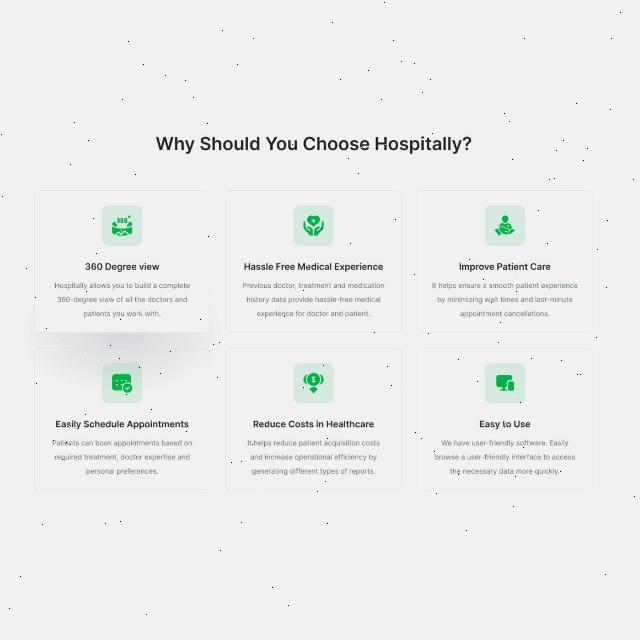QLabel: (153, 134, 473, 154), (431, 278, 577, 318), (240, 280, 386, 318), (246, 437, 382, 477), (52, 280, 195, 318), (434, 438, 576, 476), (51, 436, 192, 474), (243, 262, 385, 272), (54, 419, 188, 429), (252, 419, 376, 428), (457, 261, 551, 271), (84, 260, 160, 272), (478, 418, 532, 428)
VCard: (416, 344, 594, 492), (33, 188, 213, 334), (33, 346, 213, 492), (224, 345, 403, 491), (415, 188, 595, 332), (224, 188, 403, 332)
VImg: (100, 361, 144, 404), (293, 361, 335, 403), (484, 362, 526, 404), (102, 204, 142, 244), (294, 204, 332, 244), (486, 204, 524, 244)
